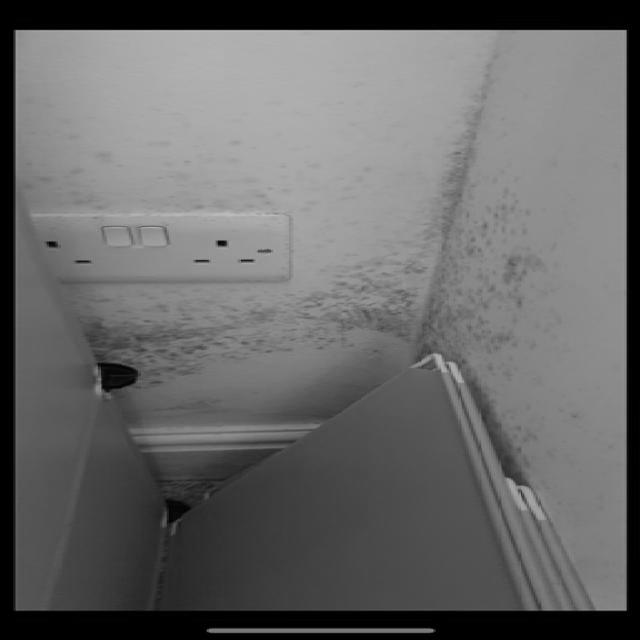stain marks: (8, 58, 626, 475)
